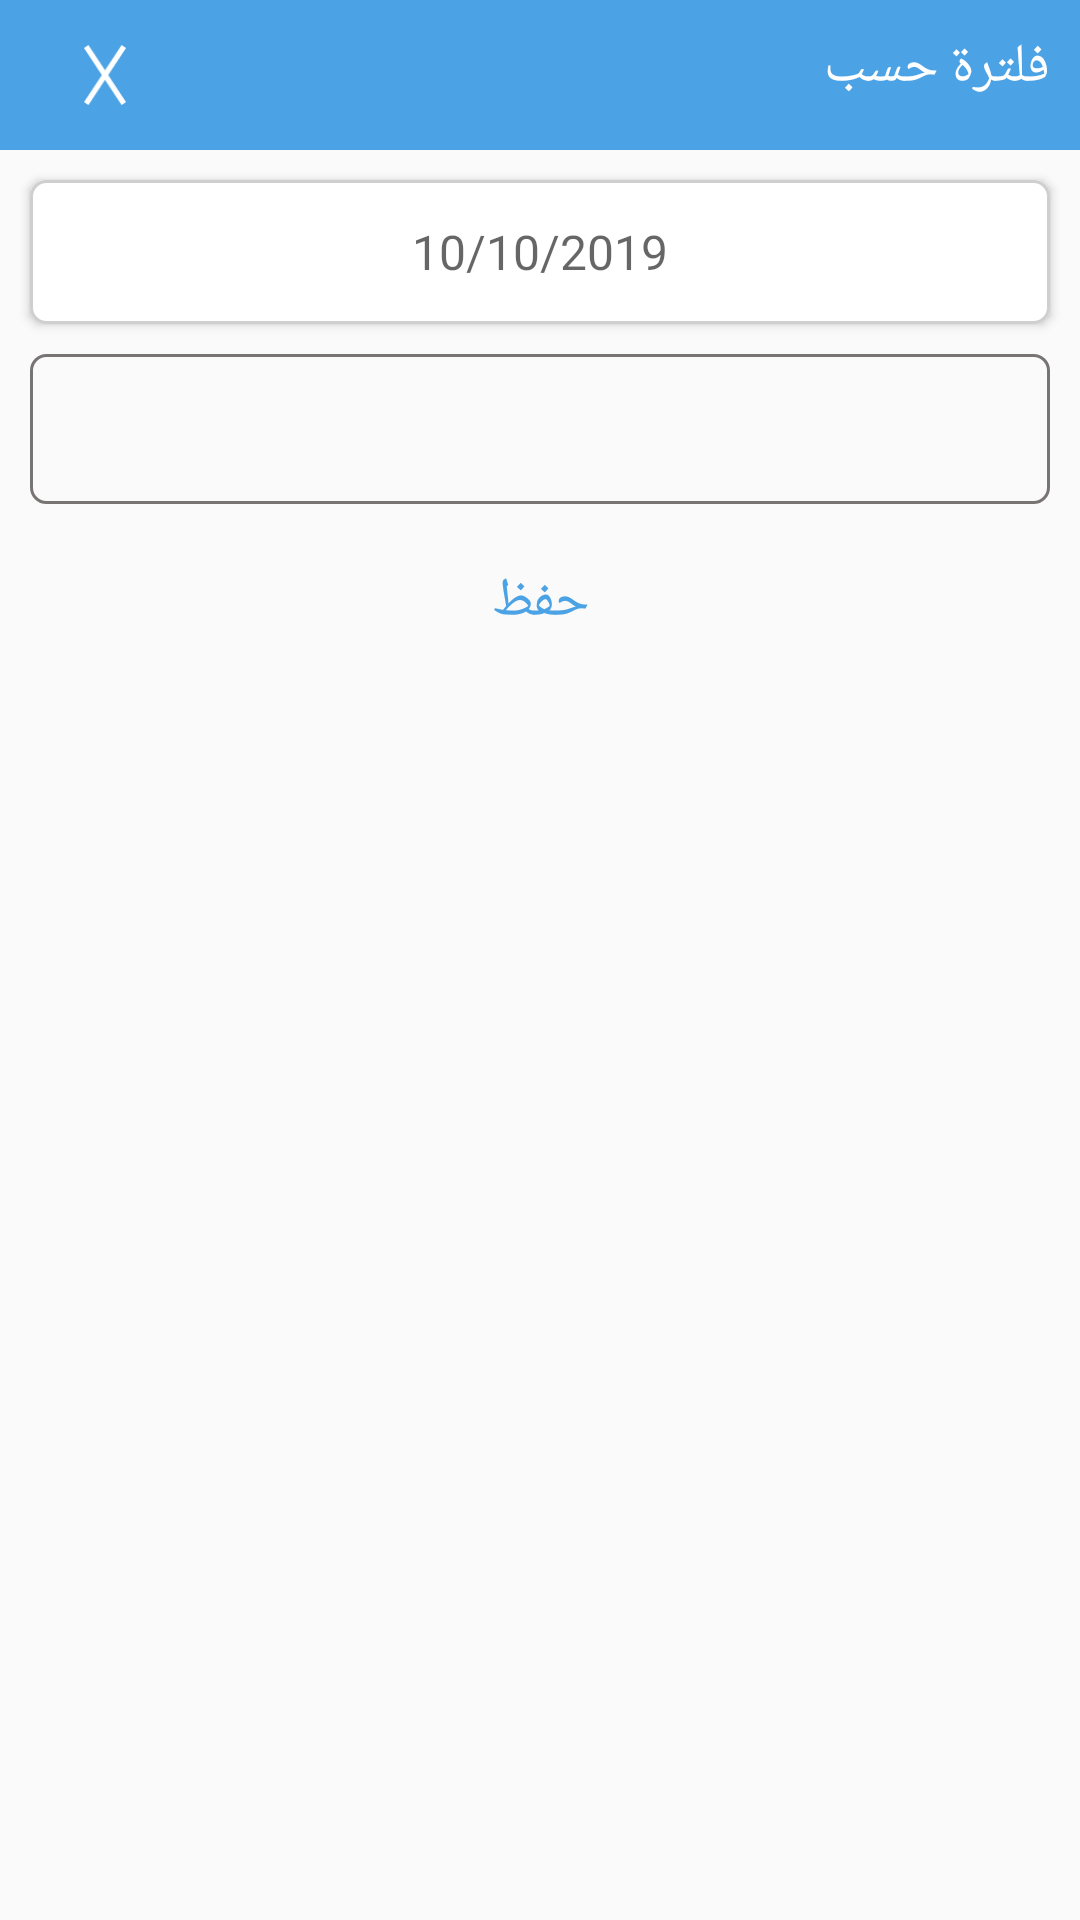

Icon bounding boxes for this 1080*1920 phone screenshot, format (x1, y1, x2, y2):
close: (84, 45, 126, 105)
